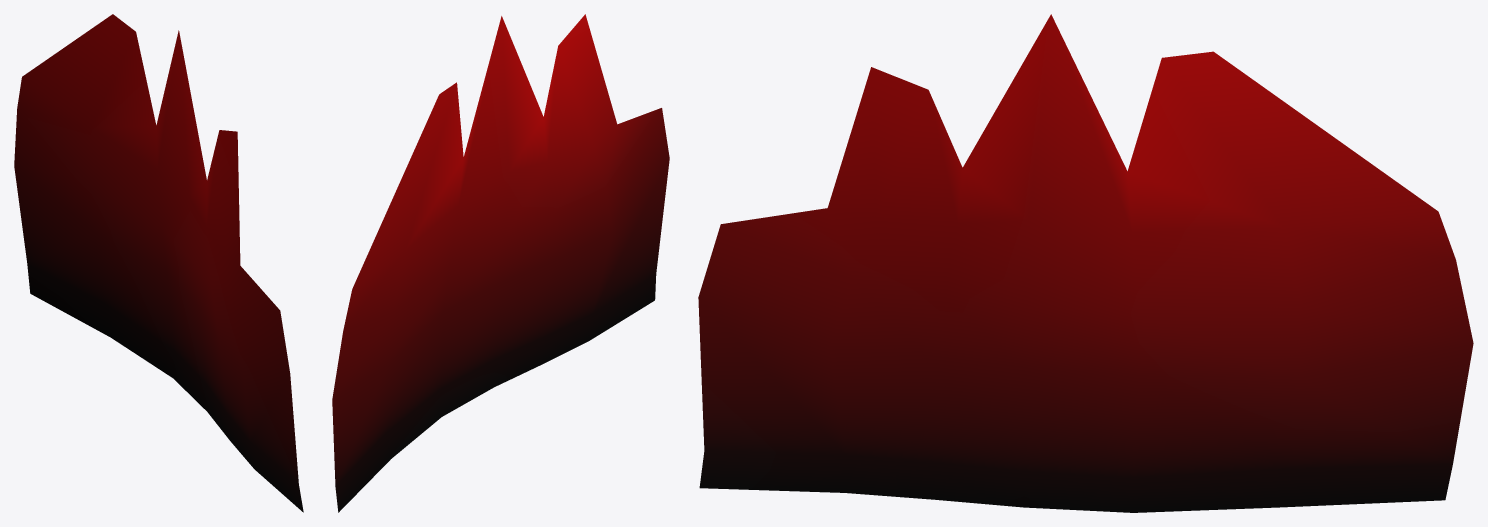
File: ShortGrass.fbx
The picture shows the model from 3 angles, left to right: view 1: azimuth 30°, elevation 25°; view 2: azimuth 150°, elevation 25°; view 3: azimuth 270°, elevation 25°; orthographic projection. The views are drawn at different scales.
Visible parts, largest first — view 1: ShortGrass; view 2: ShortGrass; view 3: ShortGrass.
Part boxes in pixels (box(x1,y1,x2,y2)): ShortGrass: box(14, 14, 303, 512); ShortGrass: box(332, 14, 669, 512); ShortGrass: box(698, 14, 1473, 512).
Size of the model in its own units: 17.36 by 113 by 164.
